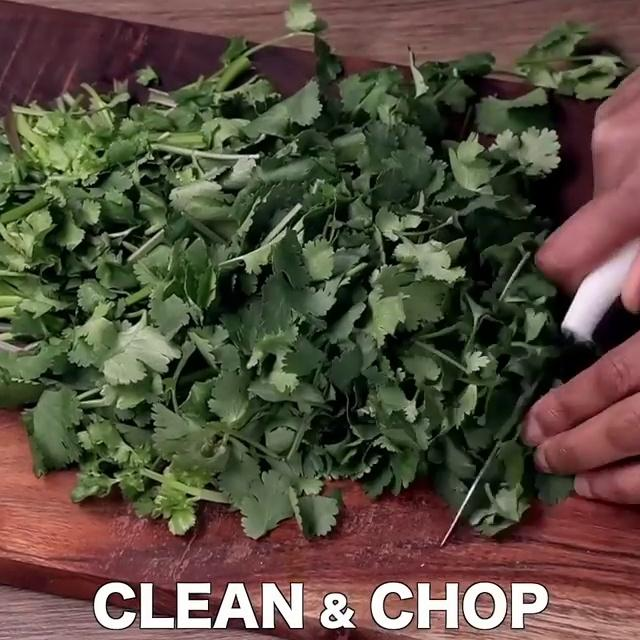cilantro: (0, 75, 518, 499)
